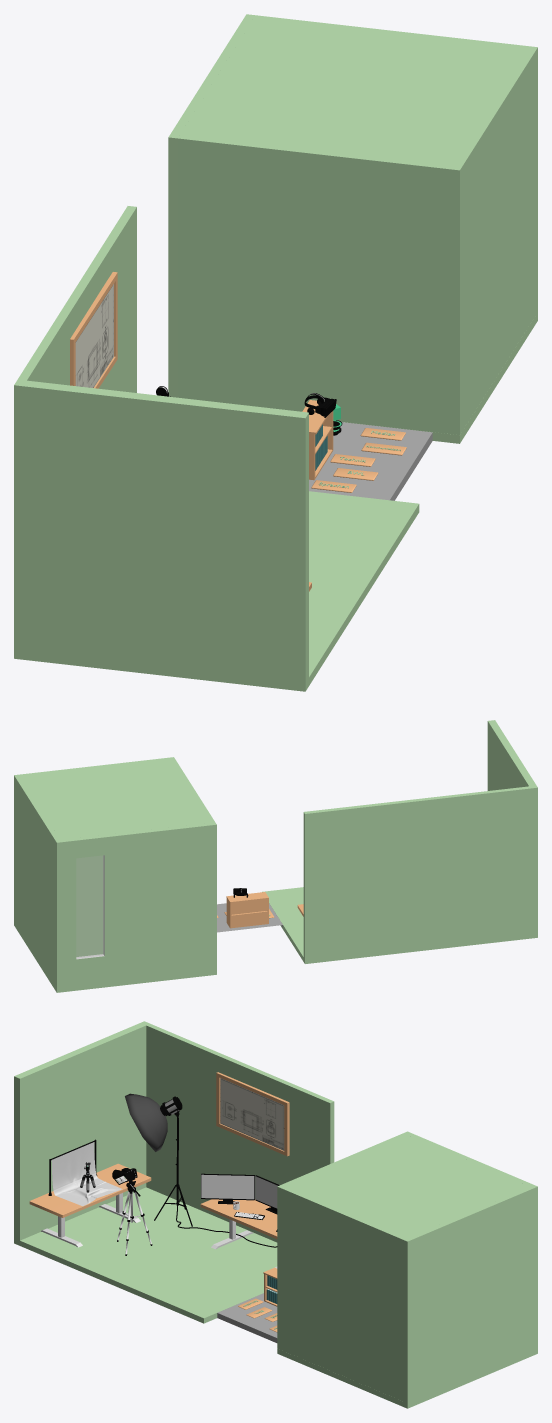
The model's file is tableexport3.glb.
3 renders of one model, top to bottom at view 1: azimuth 30°, elevation 25°; view 2: azimuth 150°, elevation 25°; view 3: azimuth 270°, elevation 25°, orthographic. The views are drawn at different scales.
Parts seen in each view (by area): view 1: WallCover, WallRoom3, Wall, FloorRoom2, BildTechZeich, BoxFrame.001; view 2: WallRoom3, Wall, WallCover, GlasWindow, BoxFrame.001, FloorRoom2; view 3: WallRoom3, WallCover, Wall, BildTechZeich, Tuchgestell, SoftboxSchirm, TableTop.002, TableTop.001, FloorRoom2, PcScreen3DL, TableFoot.002, StativCamera (+1 smaller).
Boxes of the visible parts, box(x1,y1,x2,y2) form: WallCover: box(177, 19, 535, 435); WallRoom3: box(14, 206, 419, 691); Wall: box(168, 14, 537, 443); FloorRoom2: box(309, 422, 432, 500); BildTechZeich: box(70, 272, 117, 388); BoxFrame.001: box(302, 400, 333, 480); WallRoom3: box(262, 720, 537, 963); Wall: box(14, 774, 216, 992); WallCover: box(19, 757, 215, 956); GlasWindow: box(76, 855, 103, 957); BoxFrame.001: box(226, 892, 268, 928); FloorRoom2: box(217, 903, 282, 932); WallRoom3: box(14, 1021, 334, 1323); WallCover: box(277, 1133, 529, 1401); Wall: box(277, 1131, 537, 1408); BildTechZeich: box(216, 1072, 289, 1156); Tuchgestell: box(48, 1139, 122, 1206); SoftboxSchirm: box(125, 1093, 167, 1151); TableTop.002: box(29, 1163, 151, 1217); TableTop.001: box(200, 1199, 277, 1238); FloorRoom2: box(217, 1293, 277, 1342); PcScreen3DL: box(201, 1174, 254, 1199); TableFoot.002: box(41, 1193, 140, 1247); StativCamera: box(117, 1178, 152, 1255).
Size of the model in its own units: 60.87 by 21.52 by 61.14.
Materials: 99 (4 with a texture image).
